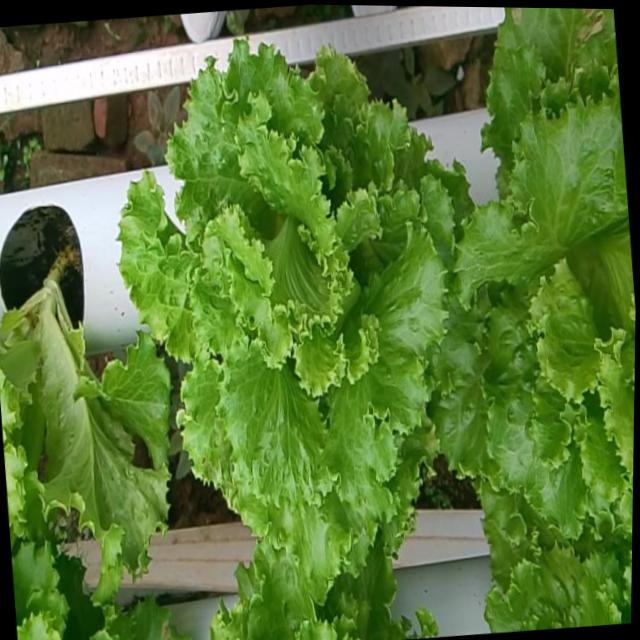Mature: (129, 29, 462, 564), (441, 79, 635, 525)
